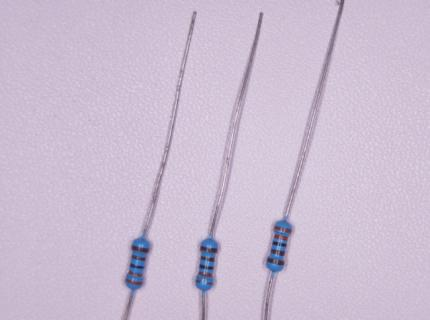Black band: (130, 263, 145, 269), (199, 264, 214, 270), (273, 241, 287, 247)
Brown band: (131, 244, 150, 253), (266, 257, 285, 266), (200, 246, 218, 253), (131, 254, 146, 262), (270, 248, 285, 256), (201, 255, 215, 262)
Orange band: (125, 277, 143, 286), (274, 226, 292, 234), (128, 270, 143, 277), (198, 271, 213, 278), (274, 234, 288, 241), (196, 280, 213, 285)
